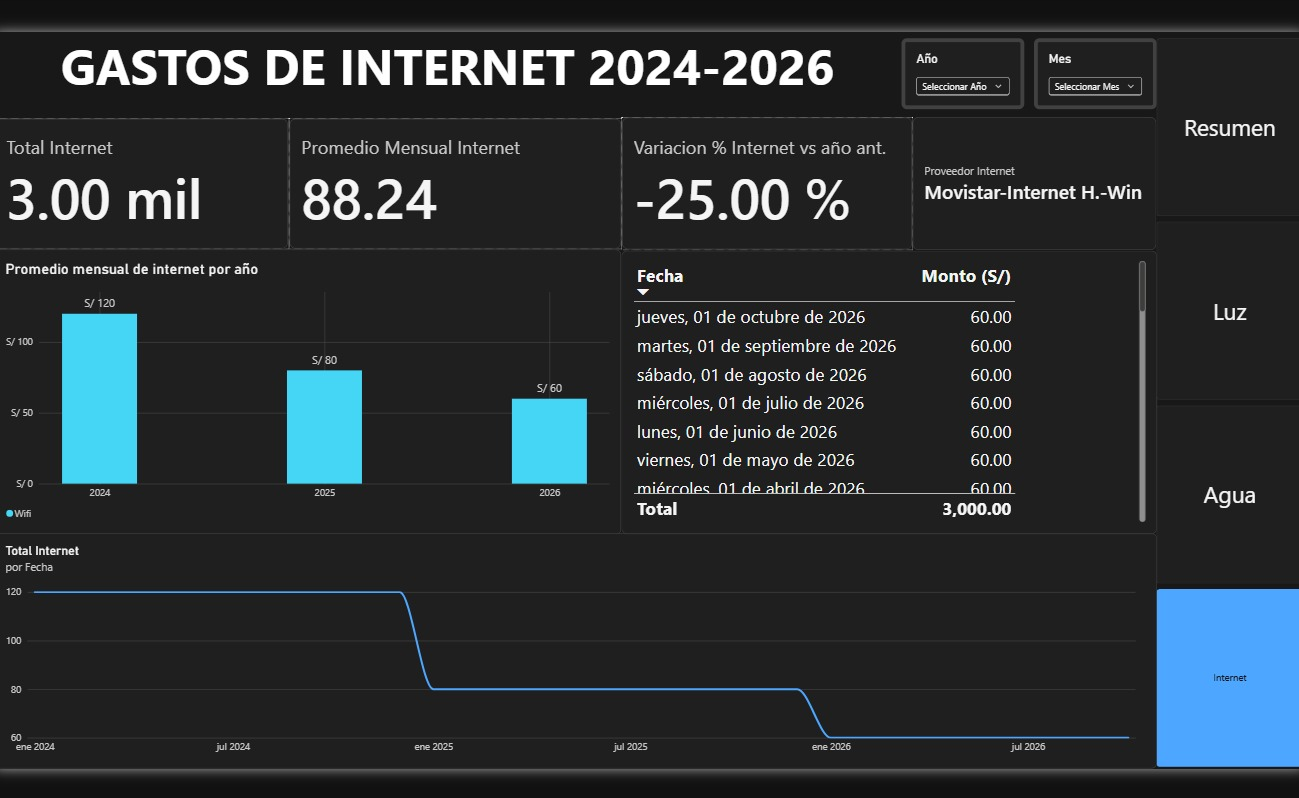

Layout of this report page (visuals, bound fields, positions):
{"tool":"powerbi","page":{"name":"Internet","canvas":[1920,1080],"ordinal":3},"visuals":[{"type":"textbox","box":[0,0,1330,125],"z":0},{"type":"cardVisual","fields":{"Data":["gastos_final.Total Internet"]},"box":[0,126,432,192],"z":1000},{"type":"cardVisual","fields":{"Data":["gastos_final.Promedio Mensual Internet"]},"box":[432,126,488,192],"z":2000},{"type":"cardVisual","fields":{"Data":["gastos_final.Variacion % Internet"]},"box":[920,125,427.5,195],"z":3000},{"type":"listSlicer","fields":{"Values":["gastos_final.Año"]},"box":[1330,10,180,104],"z":4000},{"type":"listSlicer","fields":{"Values":["gastos_final.Fecha.Variation.Jerarquía de fechas.Mes"]},"box":[1525,10,180,104],"z":5000},{"type":"clusteredColumnChart","title":"Promedio mensual de internet por año","fields":{"Category":["gastos_final.Año"],"Series":["gastos_final.Categoria"],"Y":["gastos_final.Promedio Mensual"]},"box":[0,318.5,919.3,418],"z":6000},{"type":"lineChart","fields":{"Category":["gastos_final.Fecha"],"Y":["gastos_final.Total Internet"]},"box":[0,735,1705,345],"z":7000},{"type":"tableEx","fields":{"Values":["gastos_final.Fecha","Sum(gastos_final.Monto)"]},"box":[920,320,785,415],"z":8000},{"type":"pageNavigator","box":[1705,10,215,1070],"z":9000},{"type":"cardVisual","fields":{"Data":["gastos_final.Proveedor Internet"]},"box":[1347.5,125,357.5,195],"z":10000}]}

Visuals, with their boxes on the page's 1920x1080 design canvas (x1, y1, x2, y2). These are canvas units, not pixel positions in the 1299x798 screenshot, which may show the page scaled, cropped or inside an application window:
textbox: region(0, 0, 1330, 125)
cardVisual - gastos_final.Total Internet: region(0, 126, 432, 318)
cardVisual - gastos_final.Promedio Mensual Internet: region(432, 126, 920, 318)
cardVisual - gastos_final.Variacion % Internet: region(920, 125, 1348, 320)
listSlicer - gastos_final.Año: region(1330, 10, 1510, 114)
listSlicer - gastos_final.Fecha.Variation.Jerarquía de fechas.Mes: region(1525, 10, 1705, 114)
"Promedio mensual de internet por año" clusteredColumnChart: region(0, 318, 919, 736)
lineChart - gastos_final.Fecha x gastos_final.Total Internet: region(0, 735, 1705, 1080)
tableEx - gastos_final.Fecha x Sum(gastos_final.Monto): region(920, 320, 1705, 735)
pageNavigator: region(1705, 10, 1920, 1080)
cardVisual - gastos_final.Proveedor Internet: region(1348, 125, 1705, 320)
